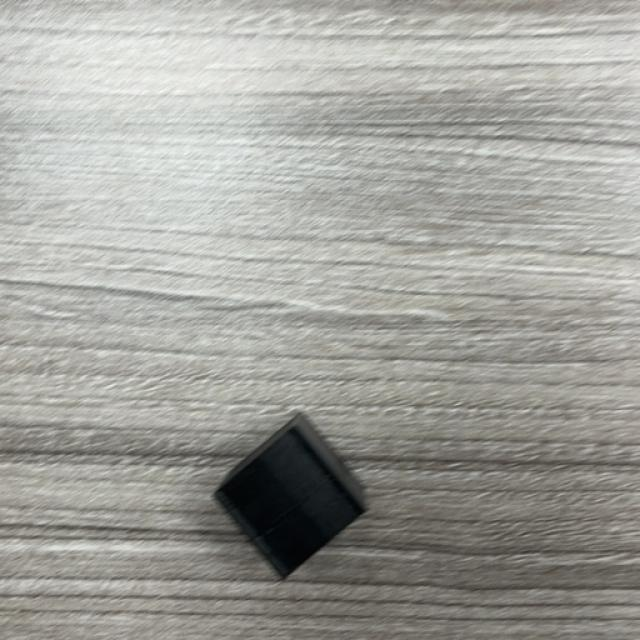Negro: (212, 412, 369, 582)
